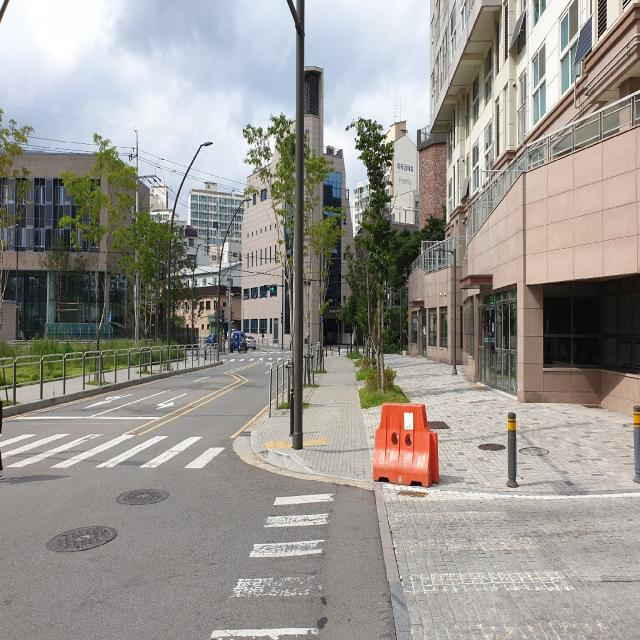횡단보도: (211, 491, 336, 638), (0, 412, 230, 479)
